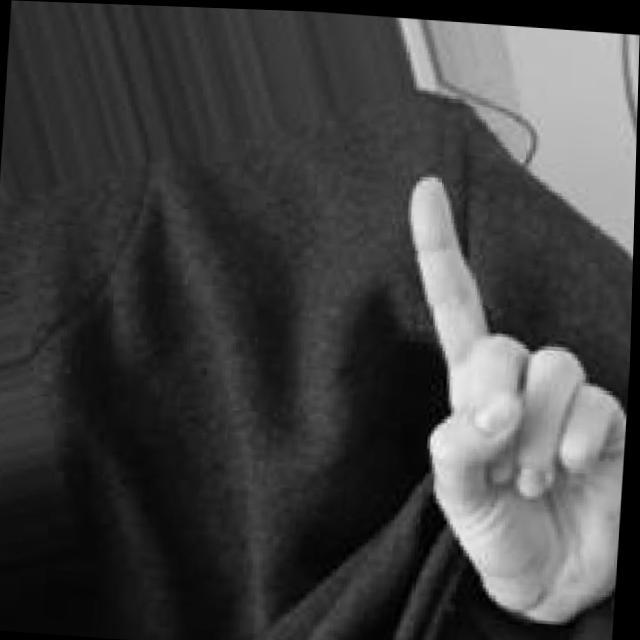I: (366, 165, 636, 632)
